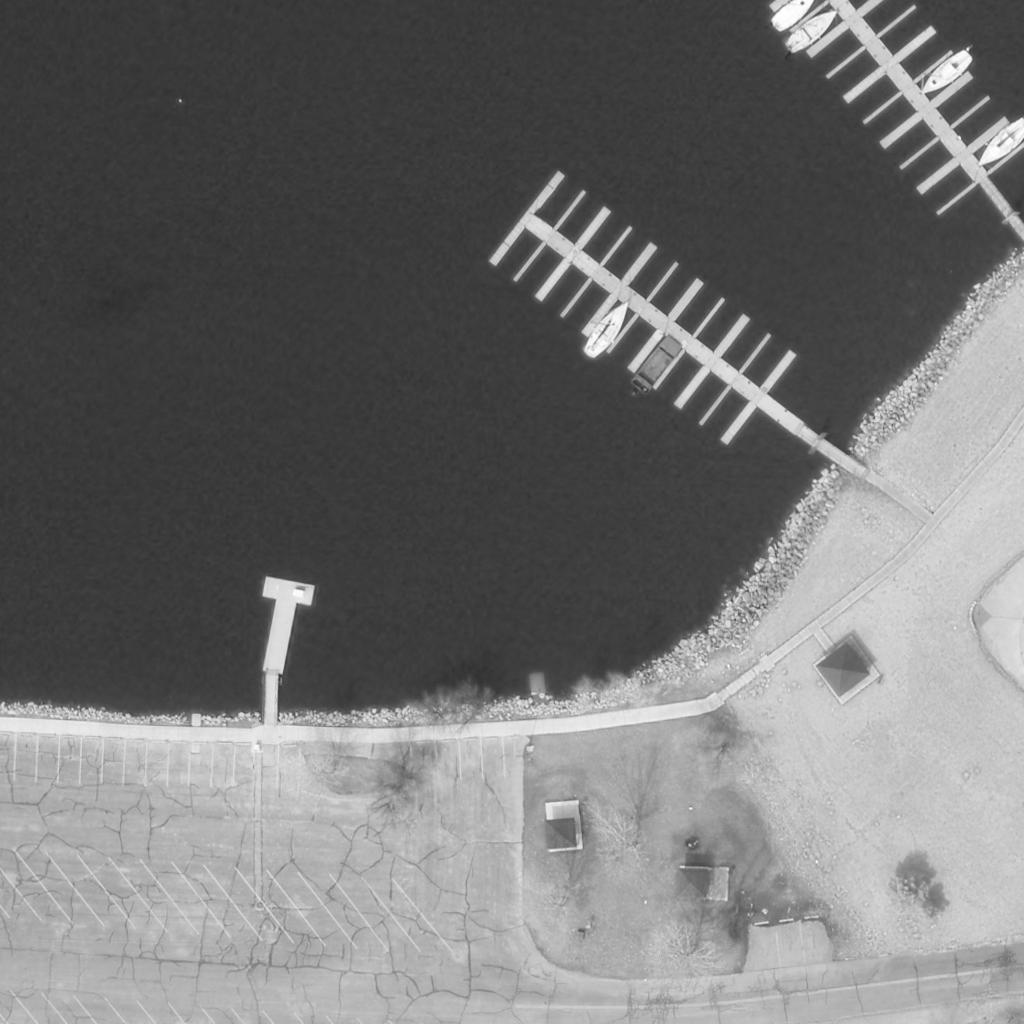vehicle: (579, 302, 637, 368), (782, 5, 846, 61), (970, 114, 1024, 176), (919, 46, 975, 102), (770, 0, 822, 34)
